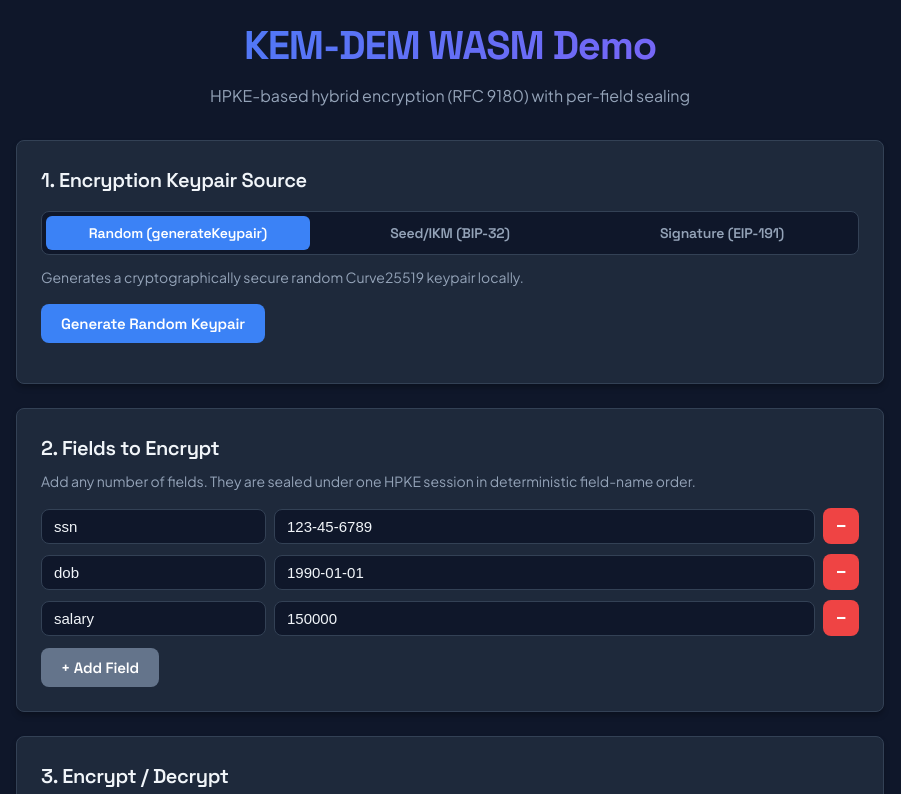
Test case: React KEM-DEM Demo Application › allows generating a random keypair
Expected: the heading "KEM-DEM WASM Demo" is shown, [16, 16, 884, 76]
Click the button "Generate Random Keypair". click: (153, 324)
box: [41, 304, 265, 343]
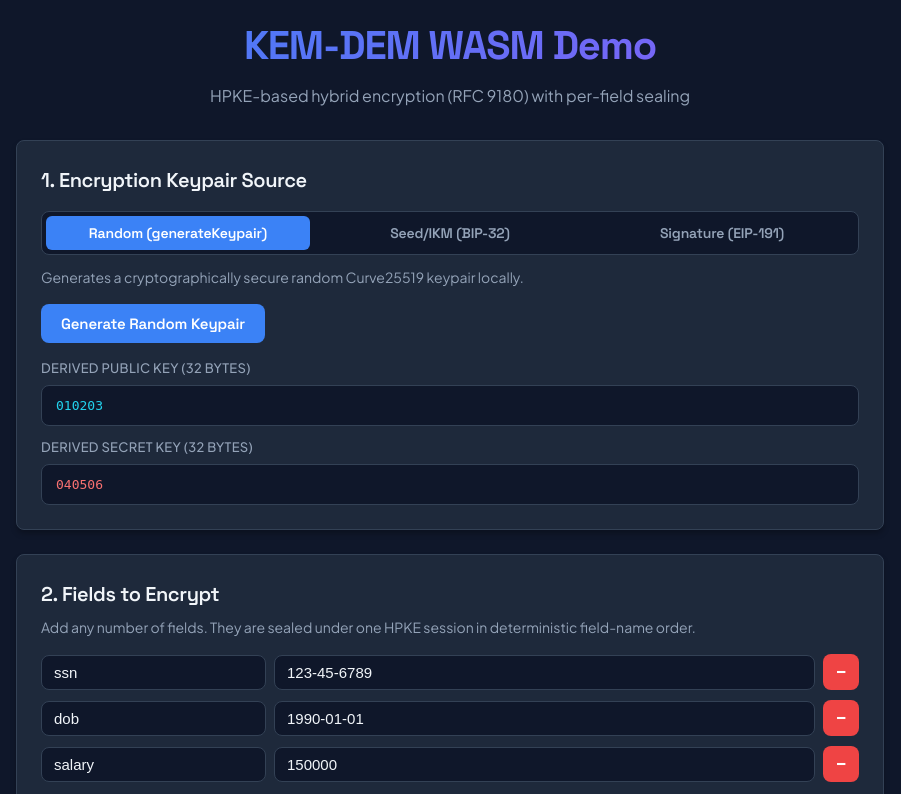
Expected: the text "Derived Public Key (32 bytes)" is shown, [41, 360, 251, 376]
Expected: the text "Derived Secret Key (32 bytes)" is shown, [41, 439, 253, 455]
